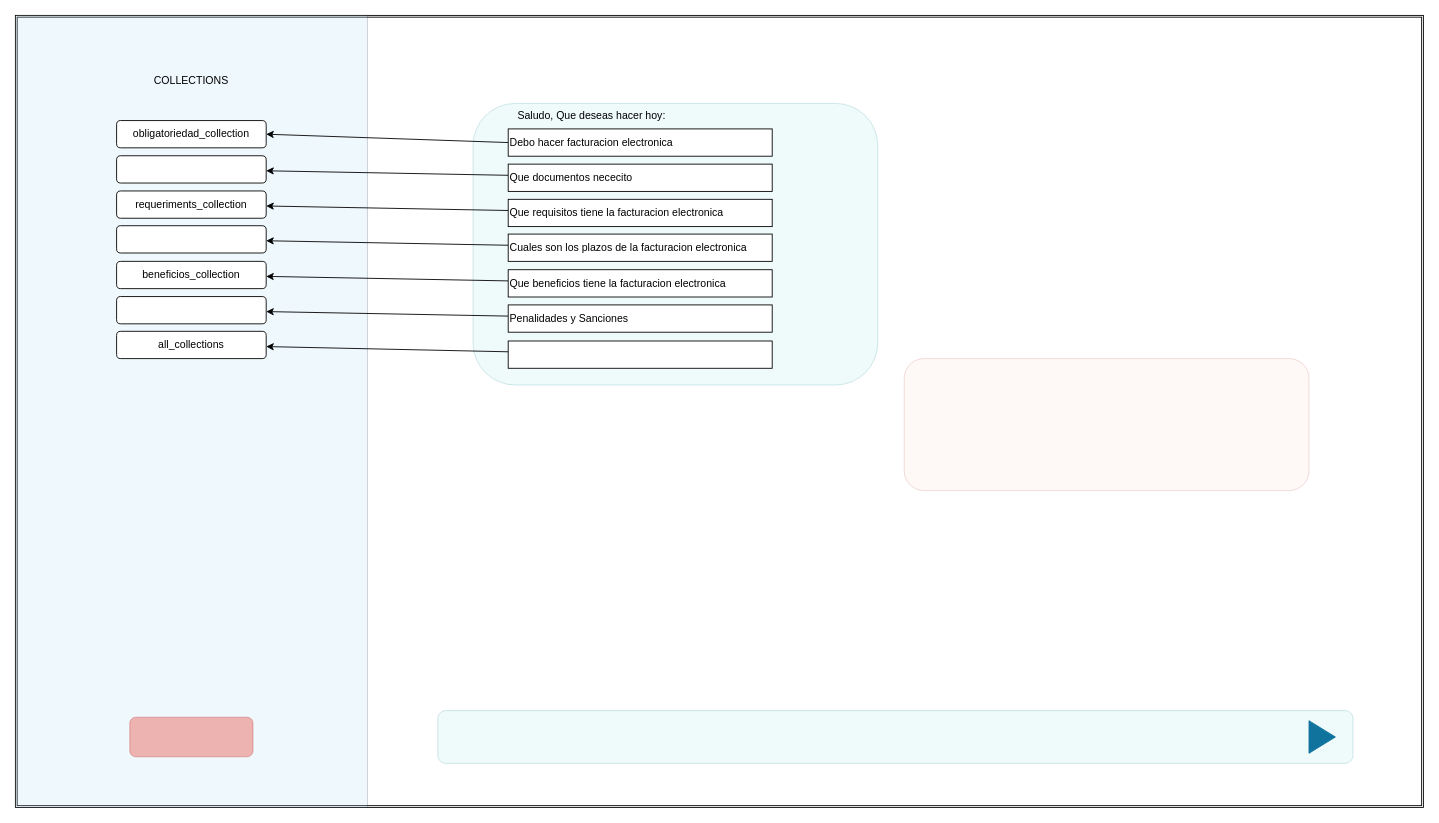
Image size: 1439x823. Some labels were removed from this diagram. The centre of each missing label's shape, as x and y in pixels:
"document_collection" goes at pixel 191 169.
"LOG OUT" goes at pixel 191 736.
"Otro..." goes at pixel 639 354.
"penalidades_collections" goes at pixel 191 310.
"plazos_collection" goes at pixel 191 239.
